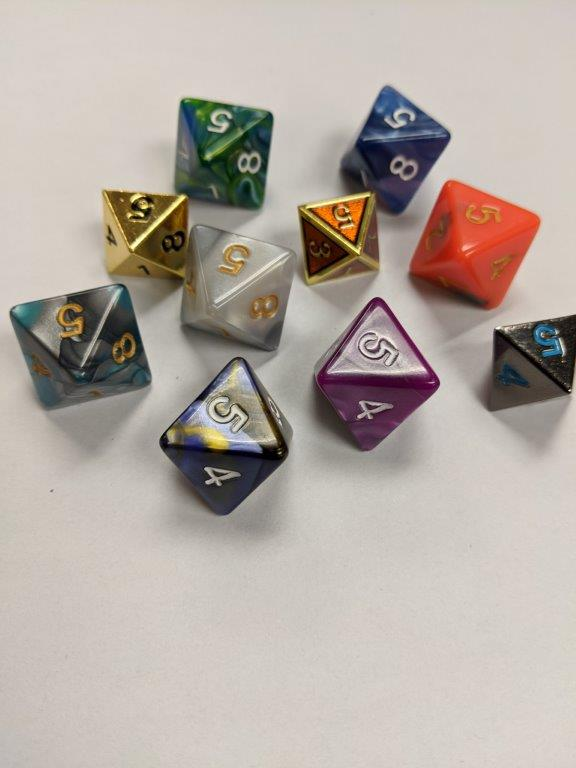d8-5: (160, 356, 293, 517), (316, 299, 440, 453), (6, 286, 156, 411), (408, 172, 540, 307), (341, 82, 451, 215), (179, 227, 294, 351), (176, 99, 274, 209), (490, 314, 576, 417), (100, 186, 191, 281), (297, 189, 379, 284)
